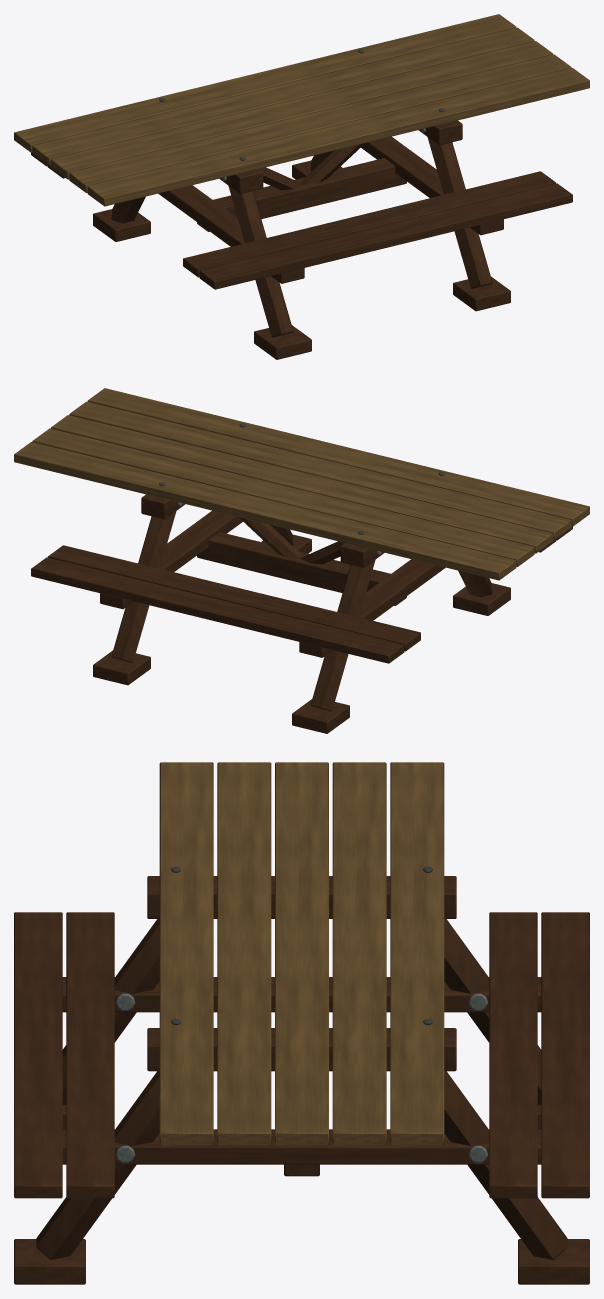
The model's file is level_camp_picnic_table_refined.glb.
3 views of the same model, one above another, from view 1: azimuth 30°, elevation 25°; view 2: azimuth 150°, elevation 25°; view 3: azimuth 270°, elevation 25° (orthographic). The views are drawn at different scales.
Visible parts, largest first — view 1: level_camp_picnic_table_refined; view 2: level_camp_picnic_table_refined; view 3: level_camp_picnic_table_refined.
Part boxes in pixels (box(x1,y1,x2,y2)): level_camp_picnic_table_refined: box(14, 14, 589, 359); level_camp_picnic_table_refined: box(14, 388, 589, 733); level_camp_picnic_table_refined: box(14, 762, 589, 1284).
Bounding box in the file's own units: 2.44 × 0.77 × 1.6.
4 materials, 4 textured.
